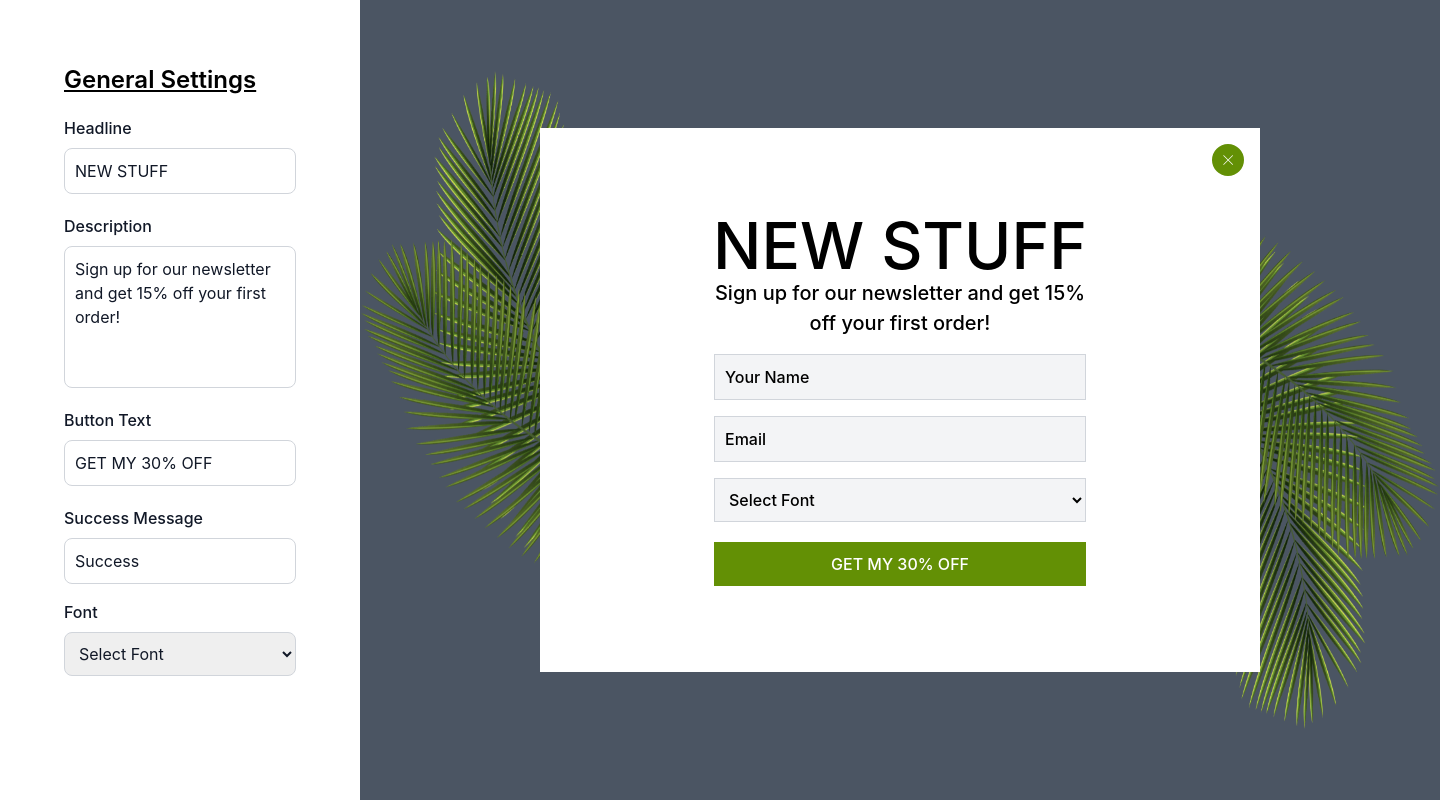
Test case: input-tests › description
The image size is (1440, 800).
Step 1. Replace the text in the text box with id "description" with "Description Message" → (180, 317), box left=64, top=246, right=296, bottom=388
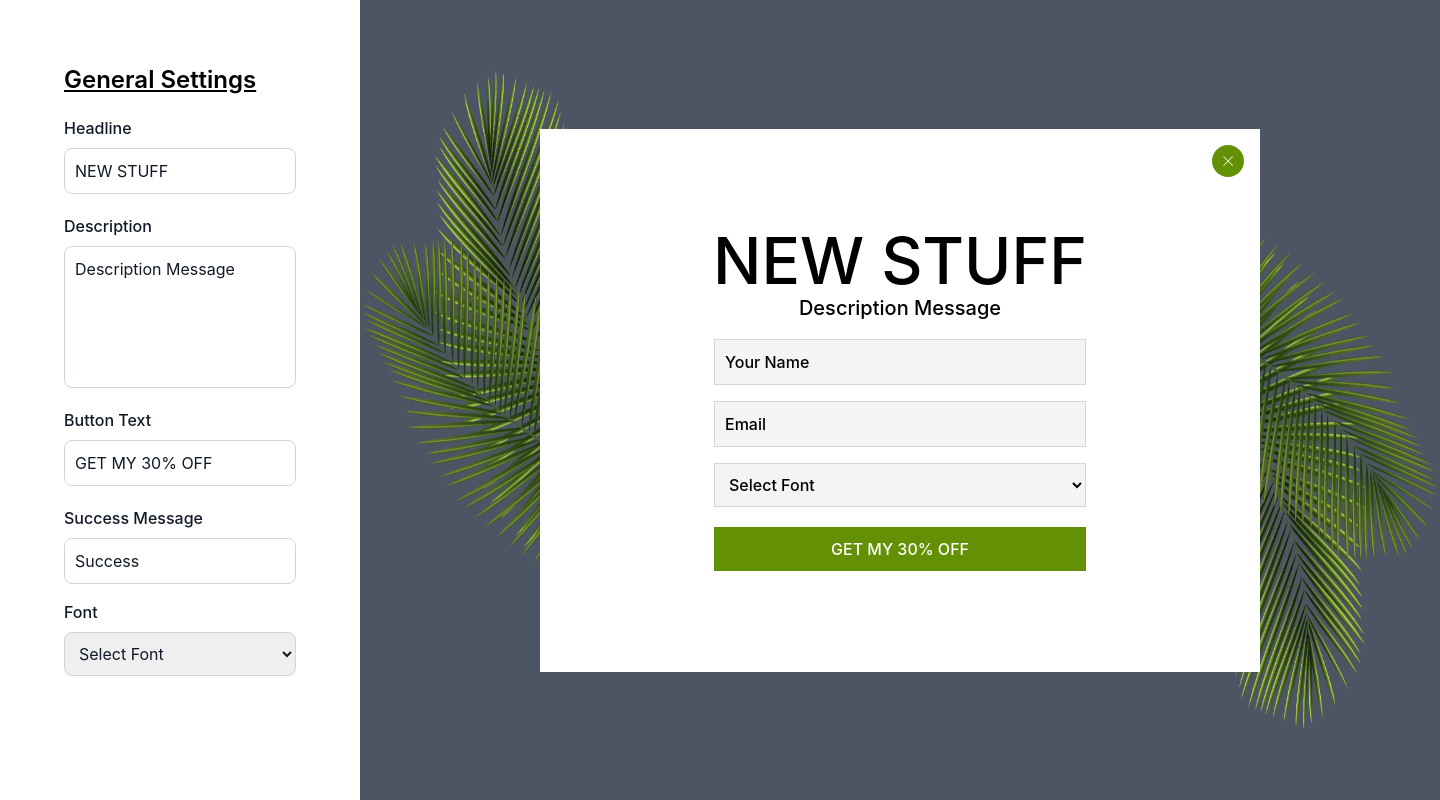
expect the heading with test id "popup-description" reads "Description Message": met, box left=799, top=296, right=1001, bottom=320
